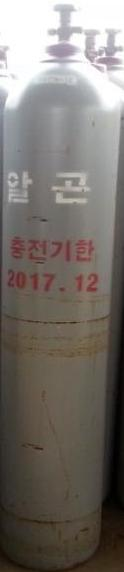cylinder: (0, 1, 124, 572)
